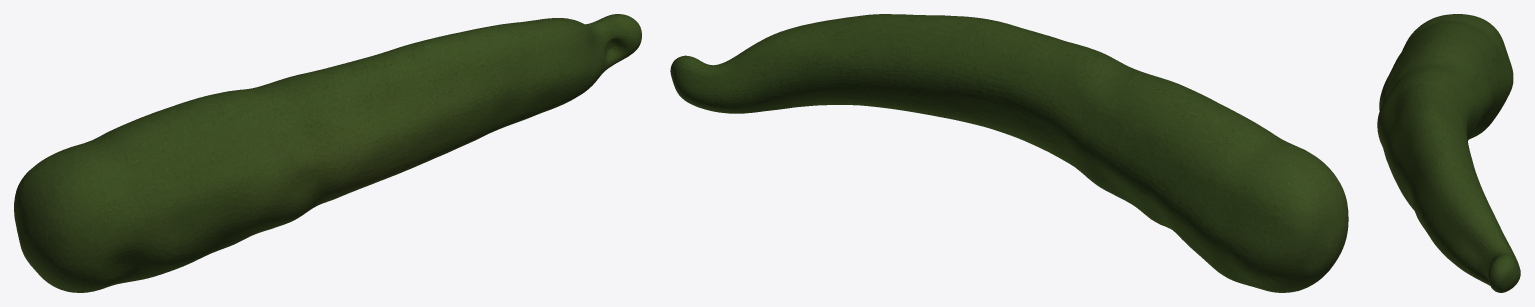
The picture shows the model from 3 angles, left to right: view 1: azimuth 30°, elevation 25°; view 2: azimuth 150°, elevation 25°; view 3: azimuth 270°, elevation 25°; orthographic projection. The views are drawn at different scales.
Parts seen in each view (by area): view 1: GLTF; view 2: GLTF; view 3: GLTF.
Part boxes in pixels (x1,y1,x2,y2): GLTF: (14,14,641,292); GLTF: (670,14,1348,292); GLTF: (1377,14,1520,292).
Bounding box in the file's own units: 0.11 × 0.0289 × 0.0262.
Materials: 1 (1 with a texture image).
